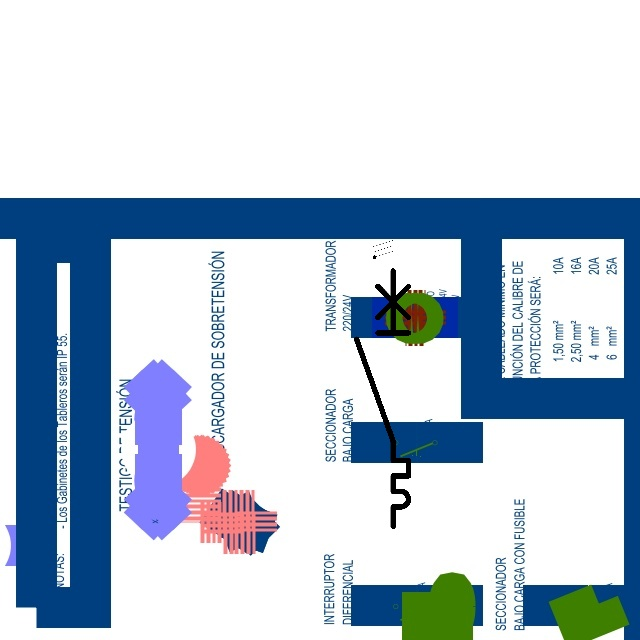interruptor_termomagnetico: (350, 264, 415, 532)
